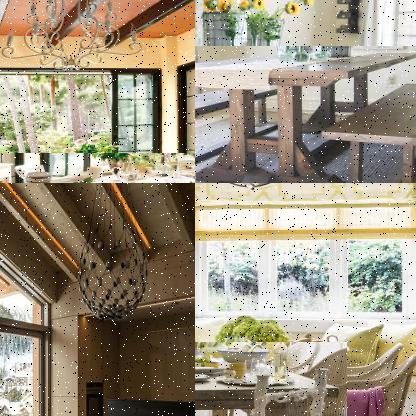table: (195, 45, 415, 182), (195, 342, 349, 415)
